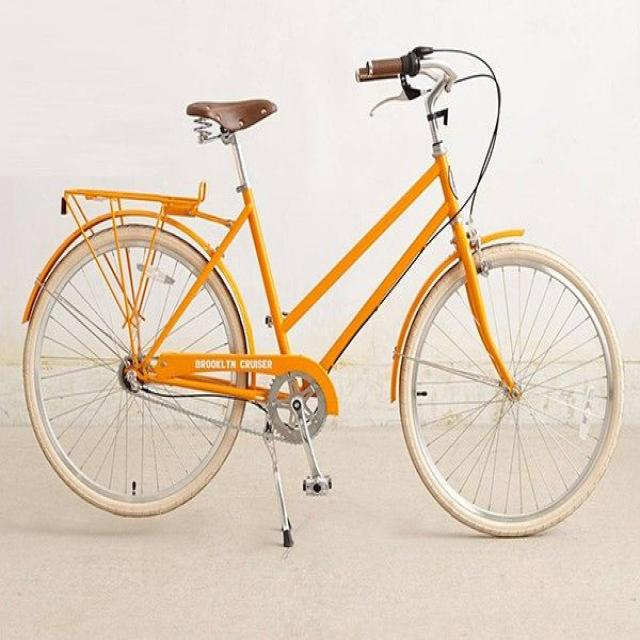urban-bike: (13, 40, 626, 547)
